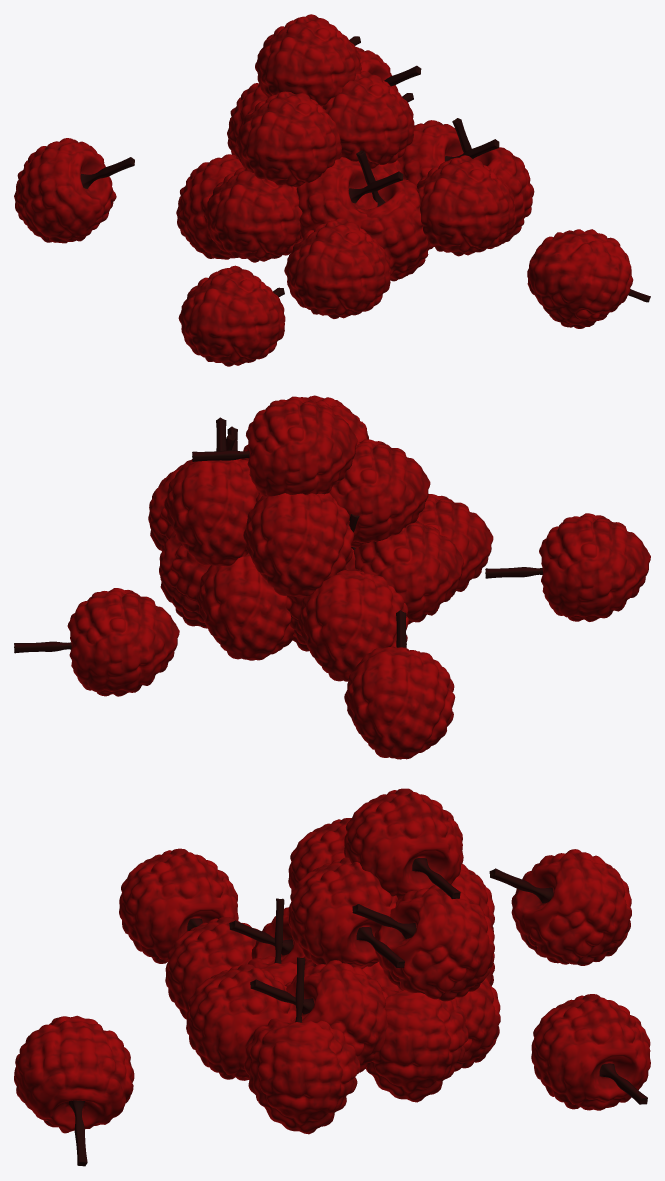
The model's file is Raspberry.fbx.
The picture shows the model from 3 angles, top to bottom: view 1: azimuth 30°, elevation 25°; view 2: azimuth 150°, elevation 25°; view 3: azimuth 270°, elevation 25°; orthographic projection. The views are drawn at different scales.
Visible parts, largest first — view 1: Raspberry_dynamesh2, Raspberry_dynamesh2.017, Raspberry_dynamesh2.019, Raspberry_dynamesh2.007, Raspberry_dynamesh2.013, Raspberry_dynamesh2.004, Raspberry_dynamesh2.010, Raspberry_dynamesh2.018, Raspberry_dynamesh2.016, Raspberry_dynamesh2.008, Raspberry_dynamesh2.006, Raspberry_dynamesh2.009 (+4 smaller); view 2: Raspberry_dynamesh2, Raspberry_dynamesh2.019, Raspberry_dynamesh2.020, Raspberry_dynamesh2.018, Raspberry_dynamesh2.015, Raspberry_dynamesh2.012, Raspberry_dynamesh2.009, Raspberry_dynamesh2.021, Raspberry_dynamesh2.013, Raspberry_dynamesh2.010, Raspberry_dynamesh2.007, Raspberry_dynamesh2.002 (+3 smaller); view 3: Raspberry_dynamesh2, Raspberry_dynamesh2.017, Raspberry_dynamesh2.020, Raspberry_dynamesh2.012, Raspberry_dynamesh2.005, Raspberry_dynamesh2.018, Raspberry_dynamesh2.019, Raspberry_dynamesh2.016, Raspberry_dynamesh2.002, Raspberry_dynamesh2.004, Raspberry_dynamesh2.003, Raspberry_dynamesh2.007 (+5 smaller).
Part boxes in pixels (x1,y1,x2,y2): Raspberry_dynamesh2: (14, 138, 134, 243); Raspberry_dynamesh2.017: (527, 229, 650, 328); Raspberry_dynamesh2.019: (178, 265, 285, 366); Raspberry_dynamesh2.007: (284, 218, 390, 318); Raspberry_dynamesh2.013: (236, 91, 341, 187); Raspberry_dynamesh2.004: (417, 155, 515, 256); Raspberry_dynamesh2.010: (204, 167, 302, 262); Raspberry_dynamesh2.018: (255, 14, 361, 105); Raspberry_dynamesh2.016: (321, 71, 414, 169); Raspberry_dynamesh2.008: (356, 150, 434, 281); Raspberry_dynamesh2.006: (296, 157, 403, 241); Raspberry_dynamesh2.009: (176, 154, 243, 259); Raspberry_dynamesh2: (344, 610, 455, 759); Raspberry_dynamesh2.019: (485, 513, 650, 621); Raspberry_dynamesh2.020: (14, 588, 179, 696); Raspberry_dynamesh2.018: (192, 396, 357, 496); Raspberry_dynamesh2.015: (243, 493, 354, 597); Raspberry_dynamesh2.012: (164, 417, 258, 566); Raspberry_dynamesh2.009: (298, 547, 408, 681); Raspberry_dynamesh2.021: (196, 553, 294, 660); Raspberry_dynamesh2.013: (329, 439, 430, 547); Raspberry_dynamesh2.010: (353, 520, 463, 624); Raspberry_dynamesh2.007: (417, 494, 493, 596); Raspberry_dynamesh2.002: (159, 531, 210, 628); Raspberry_dynamesh2: (489, 849, 631, 965); Raspberry_dynamesh2.017: (14, 1015, 134, 1166); Raspberry_dynamesh2.020: (531, 994, 650, 1110); Raspberry_dynamesh2.012: (352, 885, 494, 1001); Raspberry_dynamesh2.005: (244, 957, 360, 1134); Raspberry_dynamesh2.018: (344, 788, 463, 899); Raspberry_dynamesh2.019: (119, 848, 238, 963); Raspberry_dynamesh2.016: (288, 857, 404, 968); Raspberry_dynamesh2.002: (365, 986, 468, 1102); Raspberry_dynamesh2.004: (186, 964, 296, 1080); Raspberry_dynamesh2.003: (250, 960, 388, 1072); Raspberry_dynamesh2.007: (165, 917, 258, 1019).
Bounding box in the file's own units: 209 × 108 × 237.
